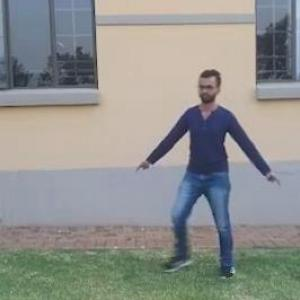land: (146, 70, 283, 260)
